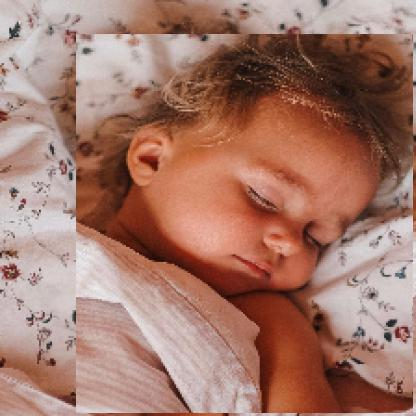child: (77, 35, 415, 415)
